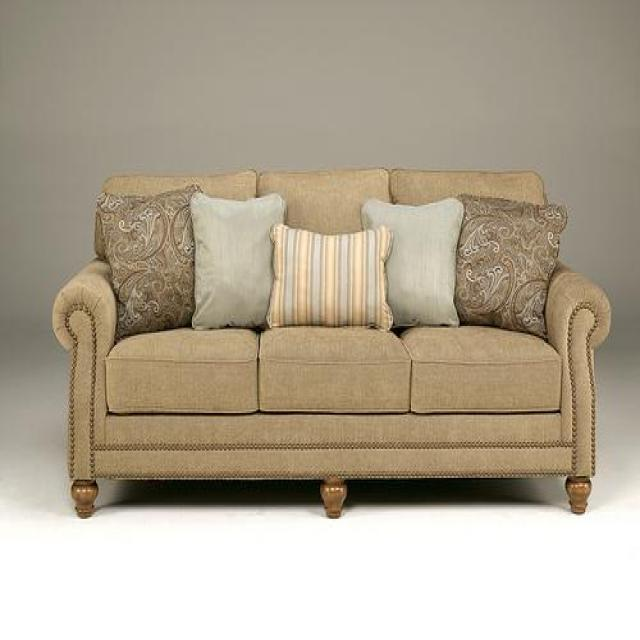sofa: (50, 160, 618, 520)
